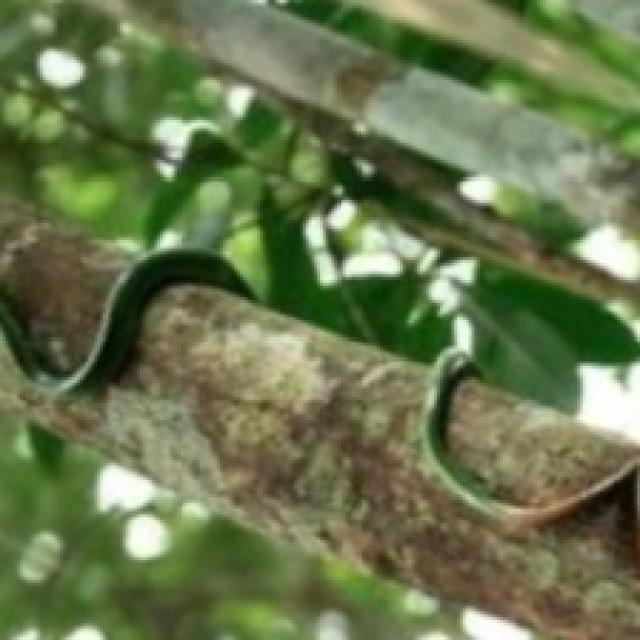red-tailed green ratsnake: (415, 349, 640, 534), (0, 250, 253, 397)
